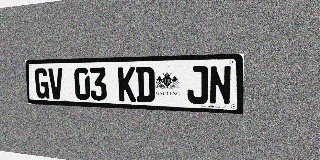0: (74, 67, 90, 100)
3: (90, 67, 107, 101)
D: (136, 67, 155, 102)
G: (34, 68, 49, 99)
J: (187, 66, 208, 104)
K: (118, 67, 136, 102)
N: (209, 65, 232, 105)
V: (48, 68, 64, 99)
